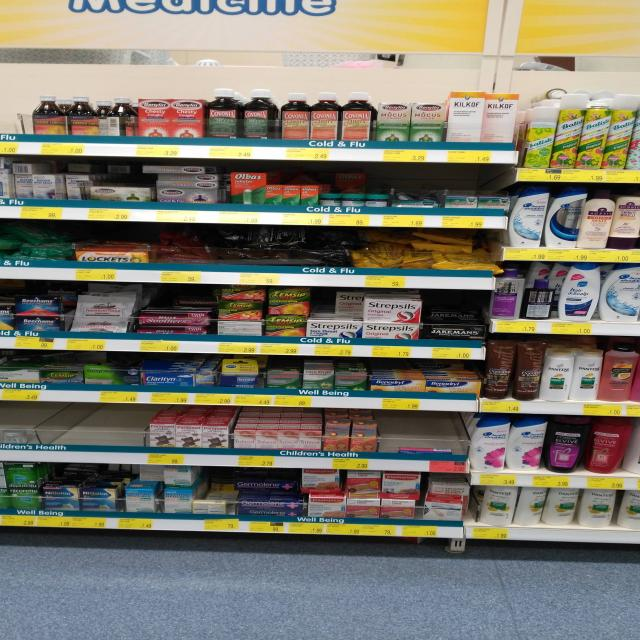unorganised: (303, 473, 468, 520), (353, 232, 497, 274), (481, 484, 577, 526), (141, 163, 223, 202), (235, 470, 303, 516), (585, 417, 631, 473), (481, 88, 521, 142), (1, 235, 73, 262), (610, 195, 640, 248), (310, 290, 364, 319), (105, 93, 138, 137), (56, 161, 91, 200), (1, 157, 31, 200), (201, 483, 235, 516), (614, 489, 640, 529), (319, 193, 390, 207), (391, 194, 438, 209), (163, 466, 198, 484)
